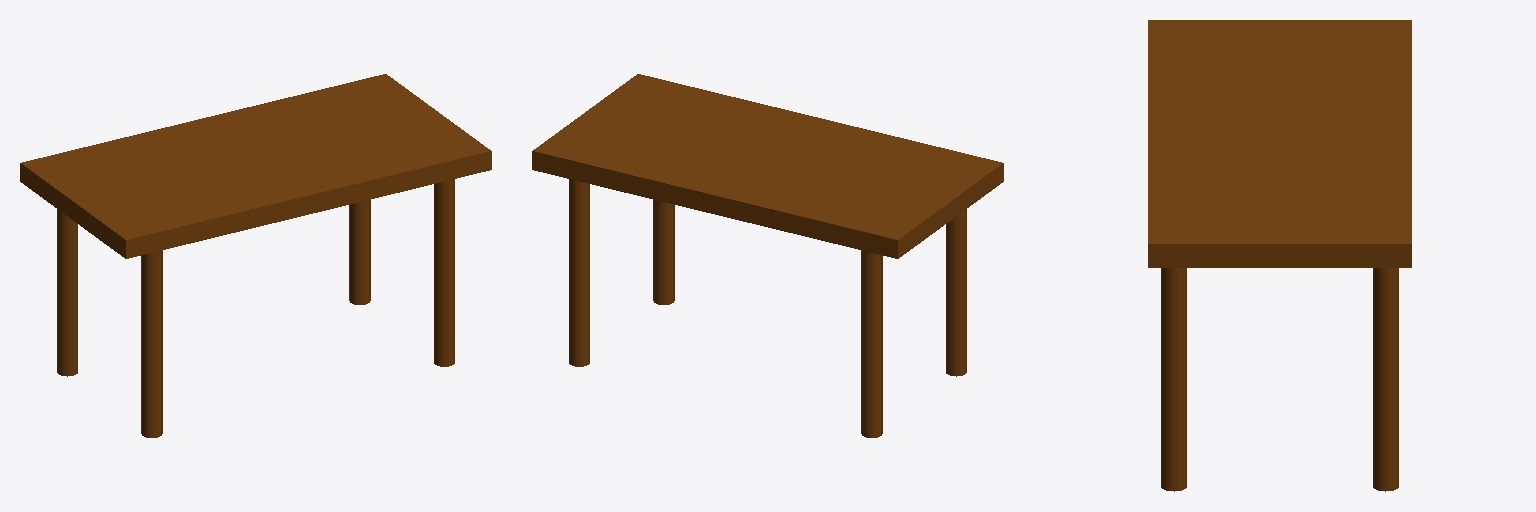
URDF robot description (simple_table):
<?xml version="1.0"?>
<robot name="simple_table">
    <!-- Table Top -->
    <link name="table_top">
        <visual>
            <geometry>
                <box size="1.0 0.5 0.05" /> <!-- Length: 1.0m, Width: 0.5m, Thickness: 0.05m -->
            </geometry>
            <material name="Brown">
                <color rgba="0.5 0.3 0.1 1.0" /> <!-- Brown color -->
            </material>
        </visual>
        <collision>
            <geometry>
                <box size="1.0 0.5 0.05" />
            </geometry>
        </collision>
        <inertial>
            <mass value="1.0" /> <!-- Table mass -->
            <inertia ixx="0.01" iyy="0.01" izz="0.01" ixy="0.0" ixz="0.0" iyz="0.0" />
        </inertial>
    </link>

    <!-- Table Legs -->
    <link name="table_leg_1">
        <visual>
            <geometry>
                <cylinder length="0.5" radius="0.025" /> <!-- Height: 0.5m, Radius: 0.025m -->
            </geometry>
            <material name="Brown">
                <color rgba="0.5 0.3 0.1 1.0" />
            </material>
        </visual>
        <collision>
            <geometry>
                <cylinder length="0.5" radius="0.025" />
            </geometry>
        </collision>
        <inertial>
            <mass value="0.1" />
            <inertia ixx="0.001" iyy="0.001" izz="0.001" ixy="0.0" ixz="0.0" iyz="0.0" />
        </inertial>
    </link>

    <link name="table_leg_2">
        <visual>
            <geometry>
                <cylinder length="0.5" radius="0.025" />
            </geometry>
            <material name="Brown">
                <color rgba="0.5 0.3 0.1 1.0" />
            </material>
        </visual>
        <collision>
            <geometry>
                <cylinder length="0.5" radius="0.025" />
            </geometry>
        </collision>
        <inertial>
            <mass value="0.1" />
            <inertia ixx="0.001" iyy="0.001" izz="0.001" ixy="0.0" ixz="0.0" iyz="0.0" />
        </inertial>
    </link>

    <link name="table_leg_3">
        <visual>
            <geometry>
                <cylinder length="0.5" radius="0.025" />
            </geometry>
            <material name="Brown">
                <color rgba="0.5 0.3 0.1 1.0" />
            </material>
        </visual>
        <collision>
            <geometry>
                <cylinder length="0.5" radius="0.025" />
            </geometry>
        </collision>
        <inertial>
            <mass value="0.1" />
            <inertia ixx="0.001" iyy="0.001" izz="0.001" ixy="0.0" ixz="0.0" iyz="0.0" />
        </inertial>
    </link>

    <link name="table_leg_4">
        <visual>
            <geometry>
                <cylinder length="0.5" radius="0.025" />
            </geometry>
            <material name="Brown">
                <color rgba="0.5 0.3 0.1 1.0" />
            </material>
        </visual>
        <collision>
            <geometry>
                <cylinder length="0.5" radius="0.025" />
            </geometry>
        </collision>
        <inertial>
            <mass value="0.1" />
            <inertia ixx="0.001" iyy="0.001" izz="0.001" ixy="0.0" ixz="0.0" iyz="0.0" />
        </inertial>
    </link>

    <!-- Joints to connect legs to the table top -->
    <joint name="joint_leg_1" type="fixed">
        <parent link="table_top" />
        <child link="table_leg_1" />
        <origin xyz="-0.4 -0.2 -0.275" rpy="0 0 0" />
    </joint>

    <joint name="joint_leg_2" type="fixed">
        <parent link="table_top" />
        <child link="table_leg_2" />
        <origin xyz="0.4 -0.2 -0.275" rpy="0 0 0" />
    </joint>

    <joint name="joint_leg_3" type="fixed">
        <parent link="table_top" />
        <child link="table_leg_3" />
        <origin xyz="-0.4 0.2 -0.275" rpy="0 0 0" />
    </joint>

    <joint name="joint_leg_4" type="fixed">
        <parent link="table_top" />
        <child link="table_leg_4" />
        <origin xyz="0.4 0.2 -0.275" rpy="0 0 0" />
    </joint>
</robot>

--- Render facts (derived) ---
3 views of the same robot in one strip: view 1: azimuth 30°, elevation 25°; view 2: azimuth 150°, elevation 25°; view 3: azimuth 270°, elevation 25° (orthographic).
Model simple_table with 5 links and 4 joints (4 fixed), rooted at table_top, posed all joints at 0.
Links seen in each view (by area): view 1: table_top, table_leg_1, table_leg_2, table_leg_3, table_leg_4; view 2: table_top, table_leg_3, table_leg_4, table_leg_1, table_leg_2; view 3: table_top, table_leg_2, table_leg_4.
Link boxes in pixels (x1,y1,x2,y2): table_top: (20,74,491,258); table_leg_1: (141,250,162,437); table_leg_2: (434,179,454,366); table_leg_3: (57,209,77,376); table_leg_4: (349,200,370,304); table_top: (532,74,1003,258); table_leg_3: (861,250,882,437); table_leg_4: (569,179,589,366); table_leg_1: (946,209,966,376); table_leg_2: (653,200,674,304); table_top: (1148,20,1411,267); table_leg_2: (1161,268,1186,491); table_leg_4: (1373,268,1398,491).
Bounding box of the posed robot: 1 × 0.5 × 0.55 m (x, y, z).
Geometry: primitives only (box / cylinder / sphere), no mesh files.
